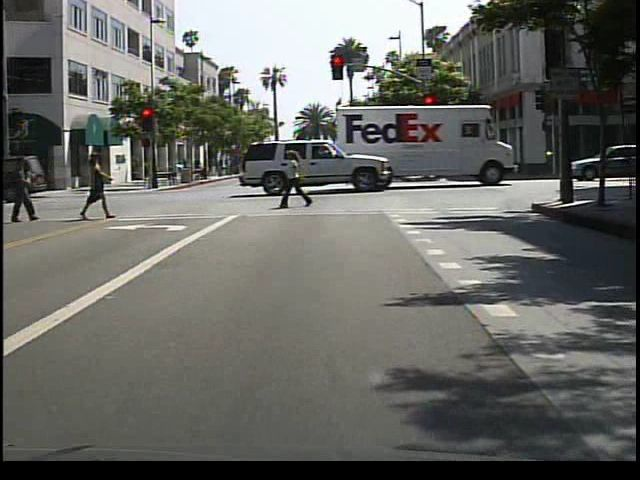person: (83, 149, 119, 223), (10, 153, 46, 225), (283, 147, 318, 211), (197, 157, 203, 169)
